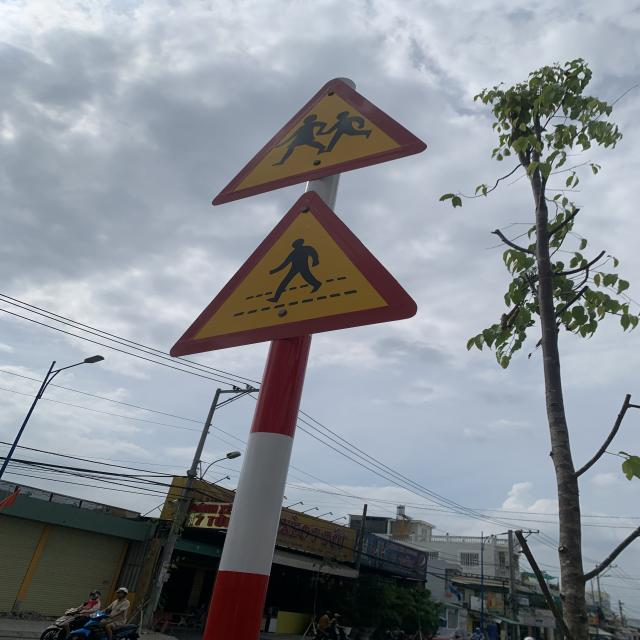Duong_Nguoi_Di_Bo_Sang_Ngang: (170, 190, 418, 358)
Vong_Xuyen: (210, 77, 427, 206)
